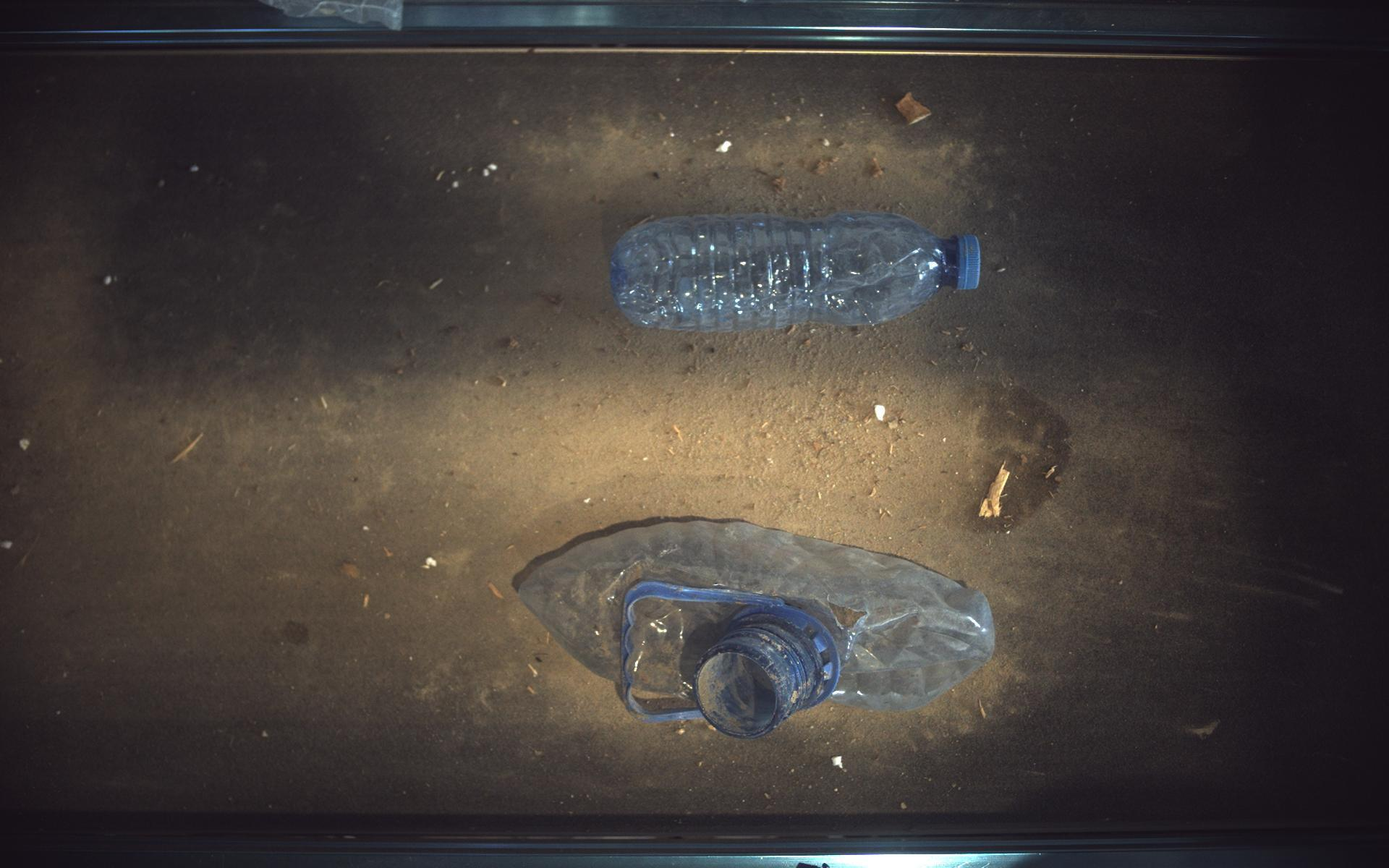general_w: (517, 521, 997, 740), (611, 211, 982, 331)
